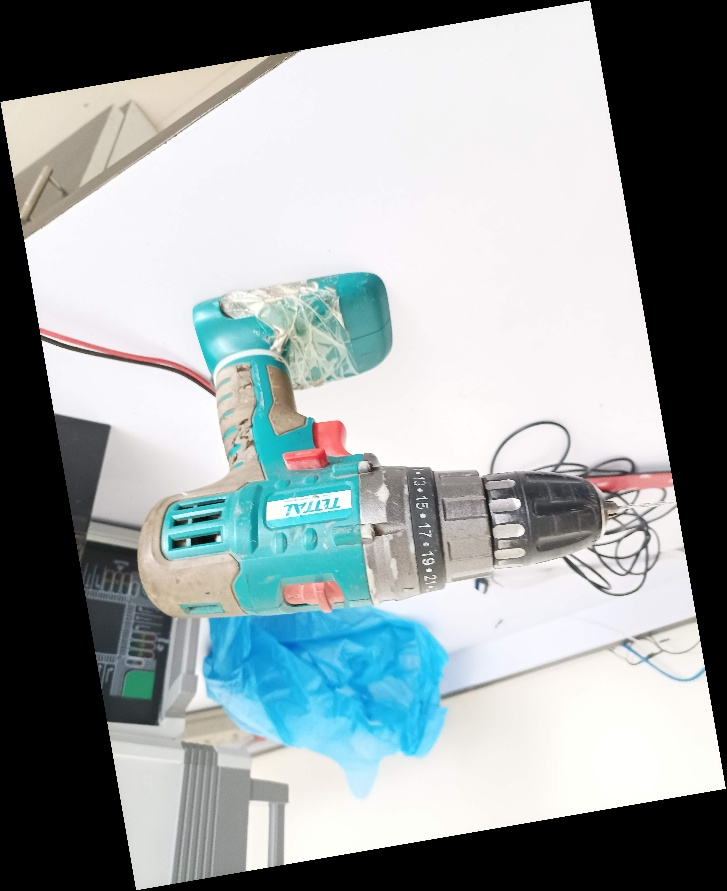driller: (132, 268, 621, 649)
